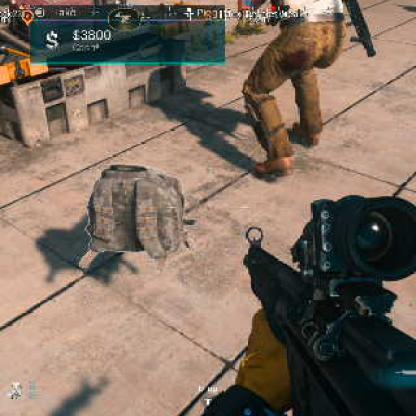enemy: (231, 1, 363, 172)
